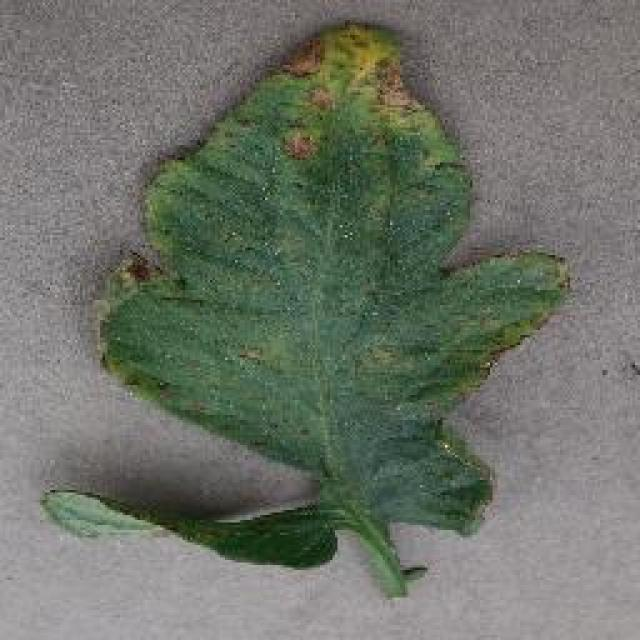Tomato bacterial spot leaf: (44, 22, 574, 590)
